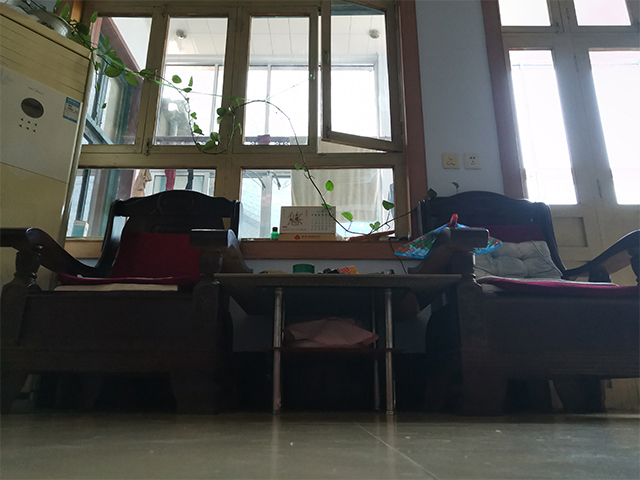stool: (1, 188, 246, 415), (414, 189, 640, 416)
table: (213, 269, 463, 414)
